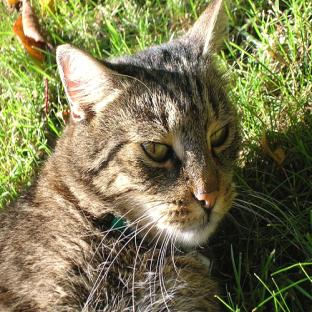Animal: (0, 0, 240, 311)
